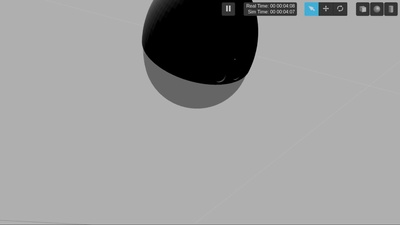mira_robot: (143, 1, 260, 109)
